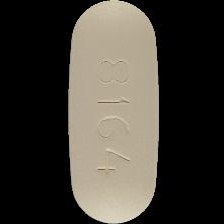0615-7727: (0, 0, 224, 224)
